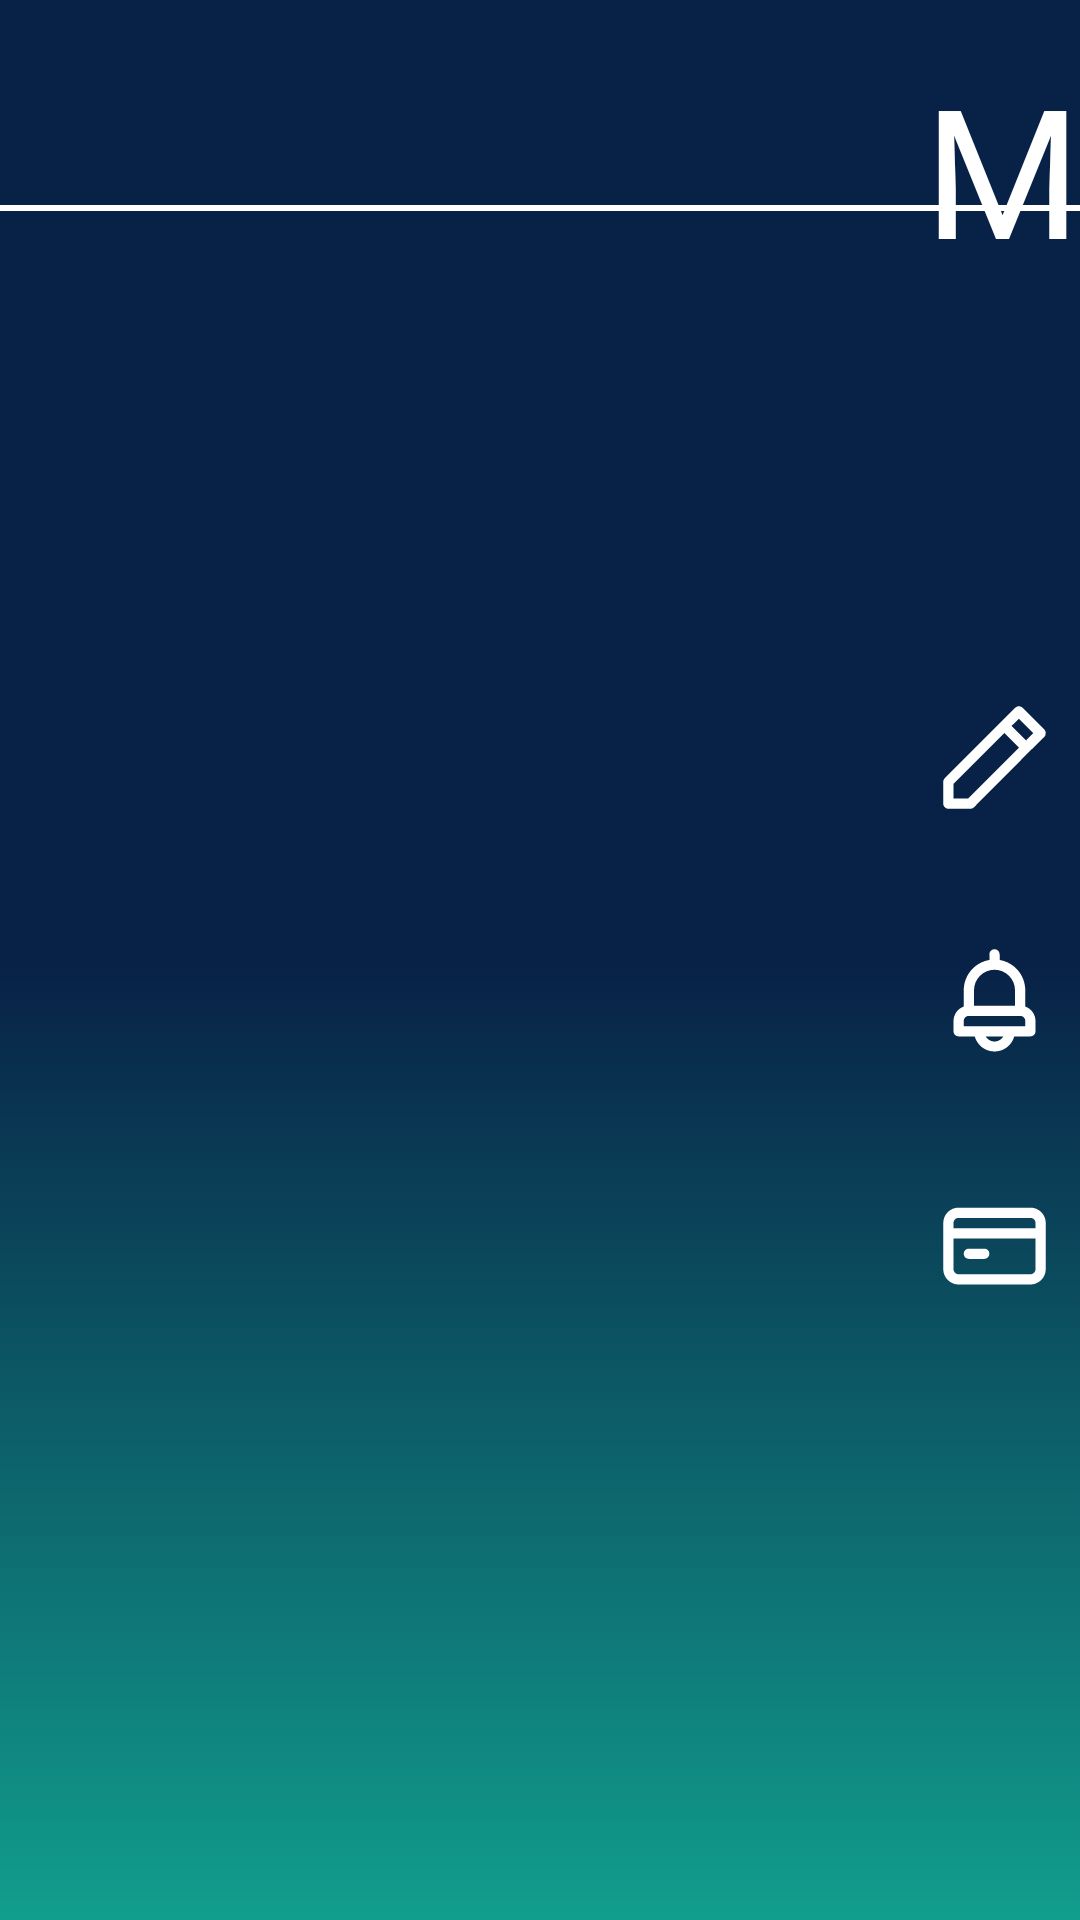

Named icons in this screenshot (1080×1920) and their centers, (x,y):
bell: (994,1000)
credit card: (994,1246)
pencil: (994,757)
